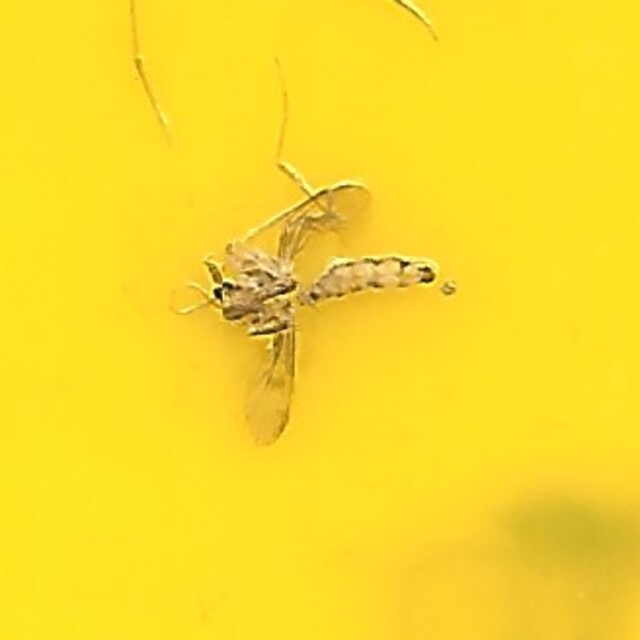Nematocera: (195, 182, 445, 458)
